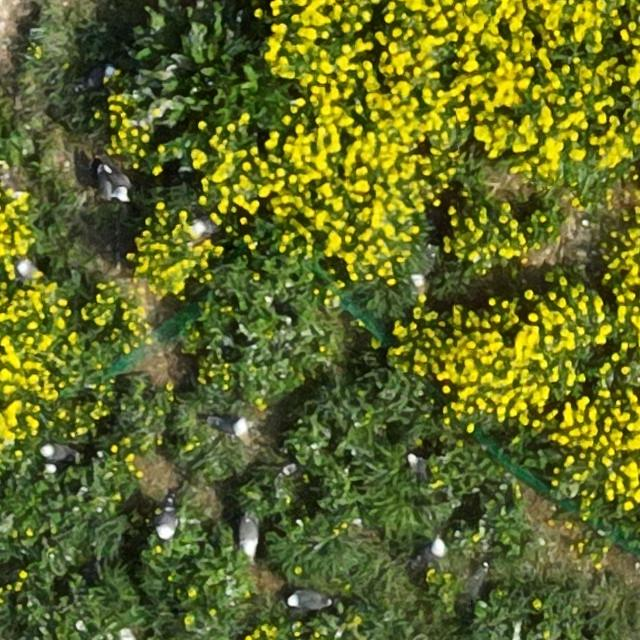umineko: (102, 168, 130, 201), (288, 590, 326, 609), (81, 64, 111, 88), (209, 416, 247, 434), (415, 540, 444, 563), (41, 443, 74, 463), (158, 503, 176, 539), (240, 521, 258, 556), (190, 218, 218, 238), (406, 454, 427, 480), (16, 260, 39, 279)
